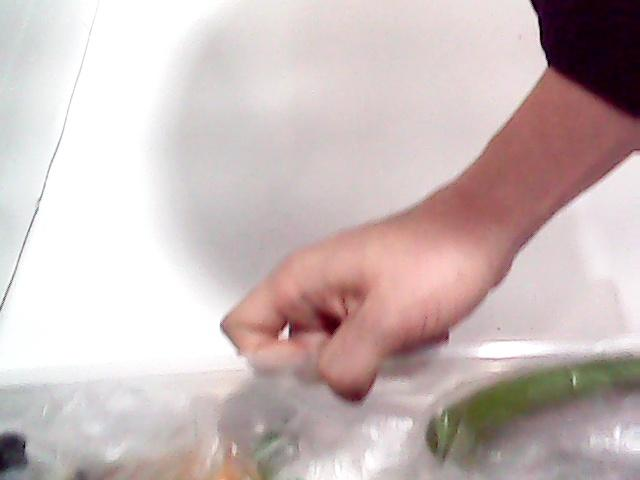pepper: (399, 364, 640, 460)
radish: (256, 430, 424, 478)
